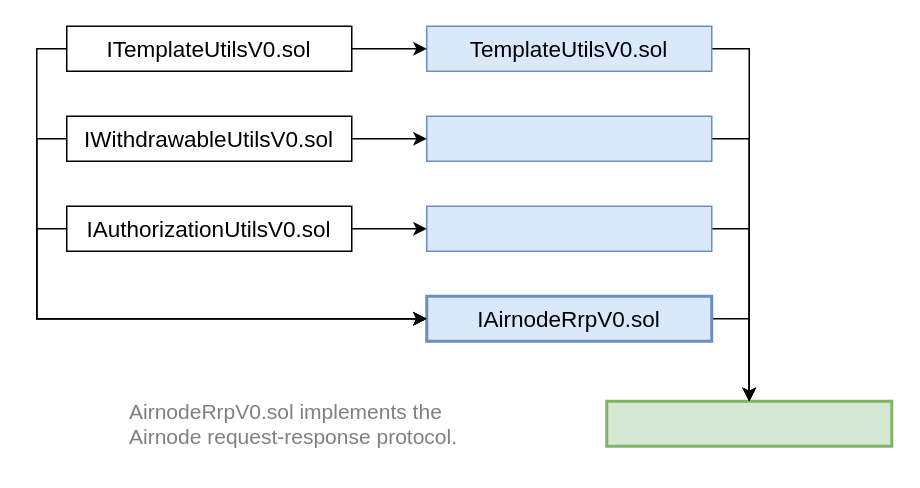
Some shapes in this 920 by 488 pixel diagram are drawn without their labels. Here are the shapes that lost their labels. From the top down, the box of each, then its label:
(425, 115, 712, 161): WithdrawalUtilsV0.sol
(425, 205, 712, 251): AuthorizationUtils.sol
(604, 399, 892, 447): AirnodeRrpV0.sol
